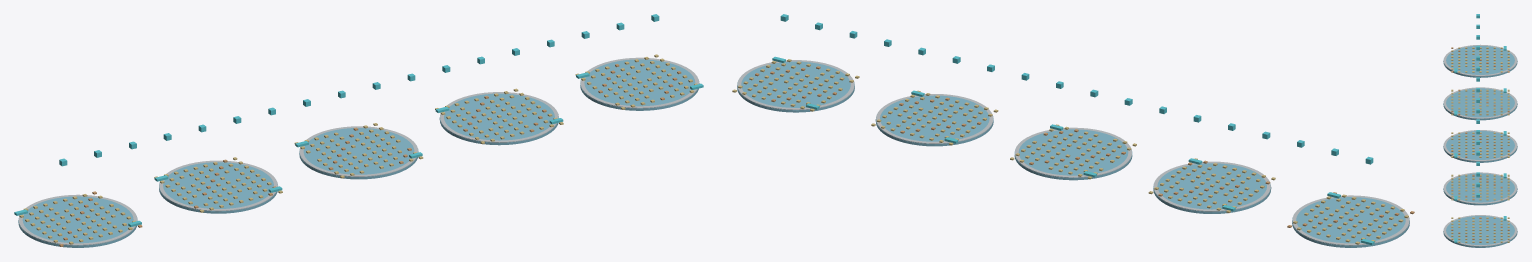
The model's file is 04_L79_CopperDielectricLandingPadMap.glb.
3 renders of one model, left to right at view 1: azimuth 30°, elevation 25°; view 2: azimuth 150°, elevation 25°; view 3: azimuth 270°, elevation 25°, orthographic. The views are drawn at different scales.
Visible parts, largest first — view 1: CopperDielectricLandingPadMap_Node_0161, CopperDielectricLandingPadMap_Node_0241, CopperDielectricLandingPadMap_Node_0322, CopperDielectricLandingPadMap_Node_0000, CopperDielectricLandingPadMap_Node_0080, CopperDielectricLandingPadMap_Node_0323, CopperDielectricLandingPadMap_Node_0081, CopperDielectricLandingPadMap_Node_0001, CopperDielectricLandingPadMap_Node_0162, CopperDielectricLandingPadMap_Node_0242; view 2: CopperDielectricLandingPadMap_Node_0000, CopperDielectricLandingPadMap_Node_0161, CopperDielectricLandingPadMap_Node_0080, CopperDielectricLandingPadMap_Node_0241, CopperDielectricLandingPadMap_Node_0322, CopperDielectricLandingPadMap_Node_0001, CopperDielectricLandingPadMap_Node_0081, CopperDielectricLandingPadMap_Node_0162, CopperDielectricLandingPadMap_Node_0323, CopperDielectricLandingPadMap_Node_0242; view 3: CopperDielectricLandingPadMap_Node_0322, CopperDielectricLandingPadMap_Node_0080, CopperDielectricLandingPadMap_Node_0241, CopperDielectricLandingPadMap_Node_0161, CopperDielectricLandingPadMap_Node_0000, CopperDielectricLandingPadMap_Node_0323, CopperDielectricLandingPadMap_Node_0001, CopperDielectricLandingPadMap_Node_0162, CopperDielectricLandingPadMap_Node_0242, CopperDielectricLandingPadMap_Node_0081.
Boxes of the visible parts, left/top/right/bottom form: CopperDielectricLandingPadMap_Node_0161: left=299, top=128, right=418, bottom=179; CopperDielectricLandingPadMap_Node_0241: left=439, top=93, right=558, bottom=145; CopperDielectricLandingPadMap_Node_0322: left=580, top=59, right=699, bottom=110; CopperDielectricLandingPadMap_Node_0000: left=18, top=196, right=137, bottom=247; CopperDielectricLandingPadMap_Node_0080: left=159, top=162, right=278, bottom=213; CopperDielectricLandingPadMap_Node_0323: left=580, top=57, right=699, bottom=108; CopperDielectricLandingPadMap_Node_0081: left=159, top=160, right=277, bottom=211; CopperDielectricLandingPadMap_Node_0001: left=18, top=194, right=137, bottom=245; CopperDielectricLandingPadMap_Node_0162: left=299, top=126, right=418, bottom=176; CopperDielectricLandingPadMap_Node_0242: left=440, top=92, right=558, bottom=142; CopperDielectricLandingPadMap_Node_0000: left=1292, top=197, right=1409, bottom=247; CopperDielectricLandingPadMap_Node_0161: left=1014, top=129, right=1132, bottom=180; CopperDielectricLandingPadMap_Node_0080: left=1153, top=163, right=1271, bottom=213; CopperDielectricLandingPadMap_Node_0241: left=875, top=95, right=993, bottom=146; CopperDielectricLandingPadMap_Node_0322: left=737, top=61, right=854, bottom=112; CopperDielectricLandingPadMap_Node_0001: left=1292, top=195, right=1409, bottom=245; CopperDielectricLandingPadMap_Node_0081: left=1153, top=161, right=1270, bottom=211; CopperDielectricLandingPadMap_Node_0162: left=1015, top=127, right=1131, bottom=177; CopperDielectricLandingPadMap_Node_0323: left=737, top=60, right=854, bottom=109; CopperDielectricLandingPadMap_Node_0242: left=876, top=94, right=993, bottom=143; CopperDielectricLandingPadMap_Node_0322: left=1443, top=216, right=1517, bottom=247; CopperDielectricLandingPadMap_Node_0080: left=1443, top=88, right=1517, bottom=120; CopperDielectricLandingPadMap_Node_0241: left=1443, top=173, right=1517, bottom=205; CopperDielectricLandingPadMap_Node_0161: left=1443, top=131, right=1517, bottom=162; CopperDielectricLandingPadMap_Node_0000: left=1443, top=46, right=1517, bottom=77; CopperDielectricLandingPadMap_Node_0323: left=1443, top=215, right=1517, bottom=246; CopperDielectricLandingPadMap_Node_0001: left=1443, top=44, right=1517, bottom=76; CopperDielectricLandingPadMap_Node_0162: left=1443, top=130, right=1517, bottom=161; CopperDielectricLandingPadMap_Node_0242: left=1443, top=172, right=1517, bottom=203; CopperDielectricLandingPadMap_Node_0081: left=1443, top=87, right=1517, bottom=118.
Bounding box in the file's own units: 5.92 × 0.58 × 0.92.
